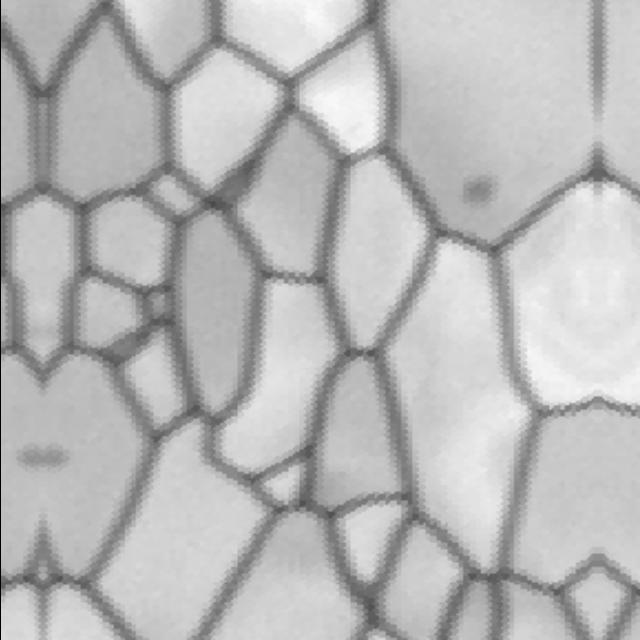good_void: (448, 165, 508, 211), (42, 440, 78, 481), (6, 440, 42, 481)
